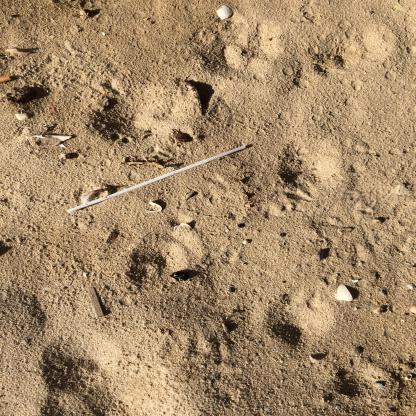plastik: (67, 147, 247, 215)
